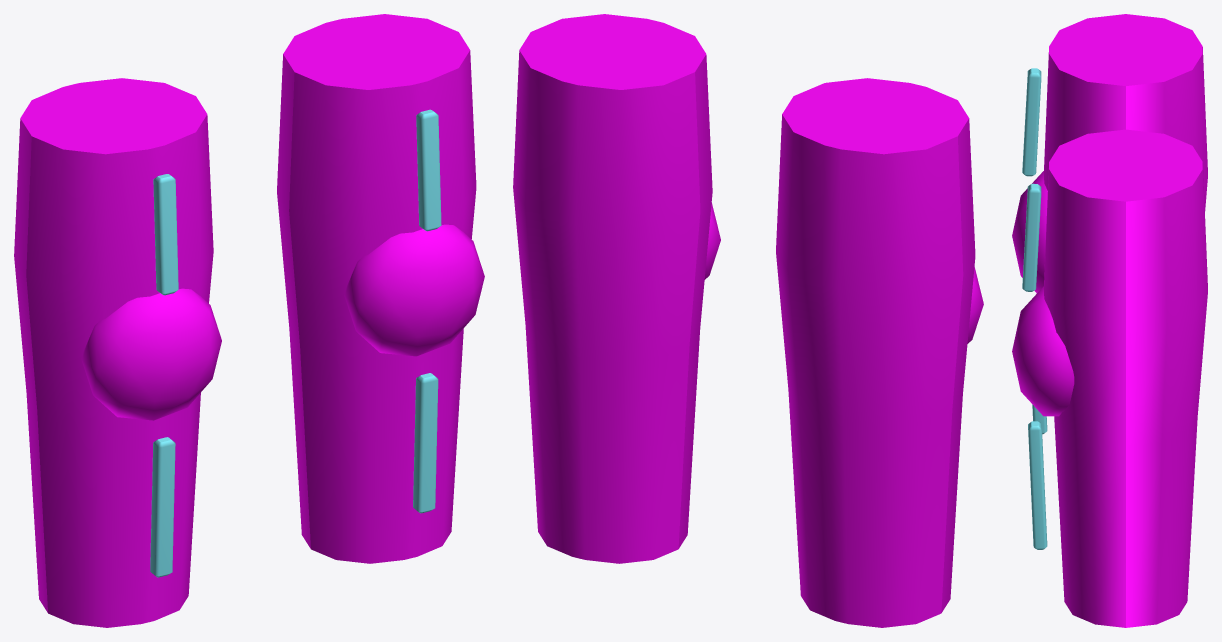
Rendered from objet_armure4_jambieres.glb.
3 views of the same model, side by side, from view 1: azimuth 30°, elevation 25°; view 2: azimuth 150°, elevation 25°; view 3: azimuth 270°, elevation 25° (orthographic). The views are drawn at different scales.
Visible parts, largest first — view 1: jambieres_teinte.006, jambieres_lueur.002; view 2: jambieres_teinte.006; view 3: jambieres_teinte.006, jambieres_lueur.002.
Part boxes in pixels (x1,y1,x2,y2): jambieres_teinte.006: (14,14,484,627); jambieres_lueur.002: (150,109,441,577); jambieres_teinte.006: (513,14,983,627); jambieres_teinte.006: (1012,14,1207,627); jambieres_lueur.002: (1022,68,1047,549).
Size of the model in its own units: 0.2 by 0.21 by 0.086.
